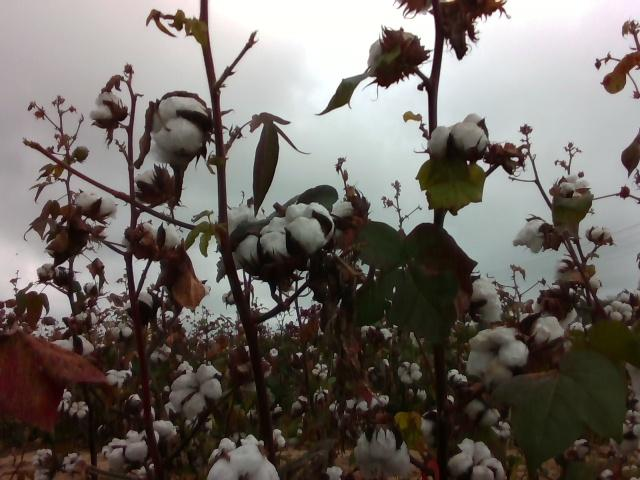cotton_ready: (241, 202, 335, 268), (148, 95, 207, 160), (466, 326, 528, 387), (353, 425, 412, 480), (169, 365, 224, 421), (365, 30, 417, 89), (207, 439, 281, 480), (427, 117, 488, 161), (531, 308, 590, 350), (448, 440, 504, 480), (467, 270, 505, 324), (131, 219, 185, 251), (512, 220, 554, 256), (108, 436, 148, 472), (133, 165, 169, 203), (92, 91, 124, 128), (70, 191, 117, 216), (554, 176, 592, 204), (327, 198, 358, 216)
